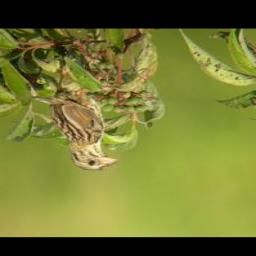Sparrow: (30, 65, 120, 174)
